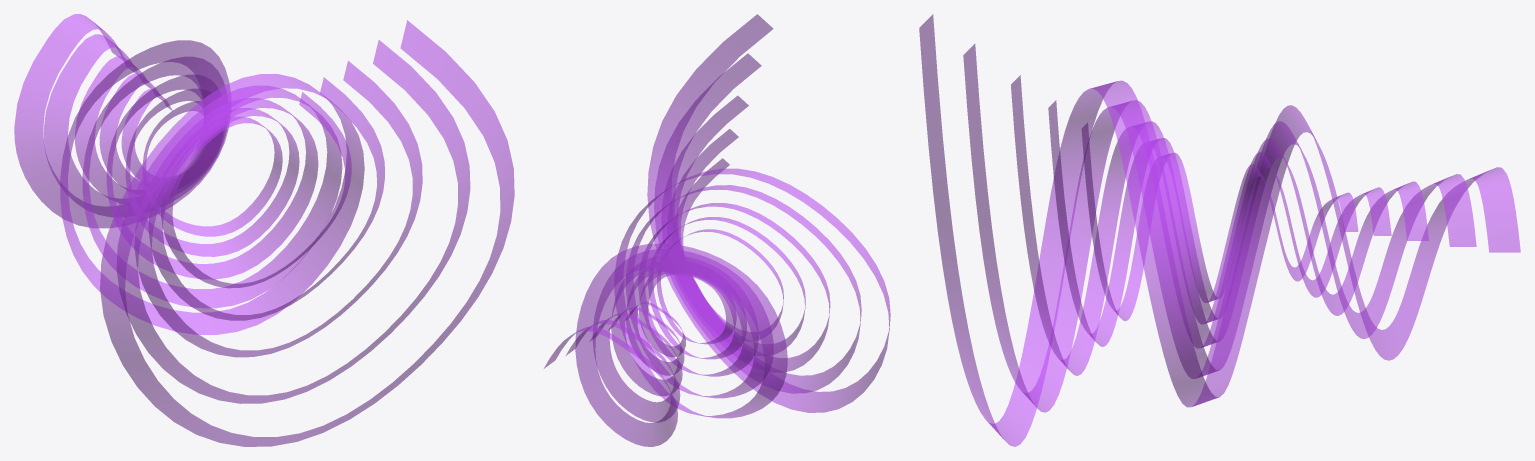
Rendered from Tornado Model.fbx.
The picture shows the model from 3 angles, left to right: view 1: azimuth 30°, elevation 25°; view 2: azimuth 150°, elevation 25°; view 3: azimuth 270°, elevation 25°; orthographic projection. The views are drawn at different scales.
Visible parts, largest first — view 1: Layer 01; view 2: Layer 01; view 3: Layer 01.
Boxes of the visible parts, left/top/right/bottom form: Layer 01: left=14, top=14, right=514, bottom=446; Layer 01: left=544, top=14, right=890, bottom=446; Layer 01: left=919, top=14, right=1520, bottom=446.
Size of the model in its own units: 9.04 by 10.61 by 12.63.
